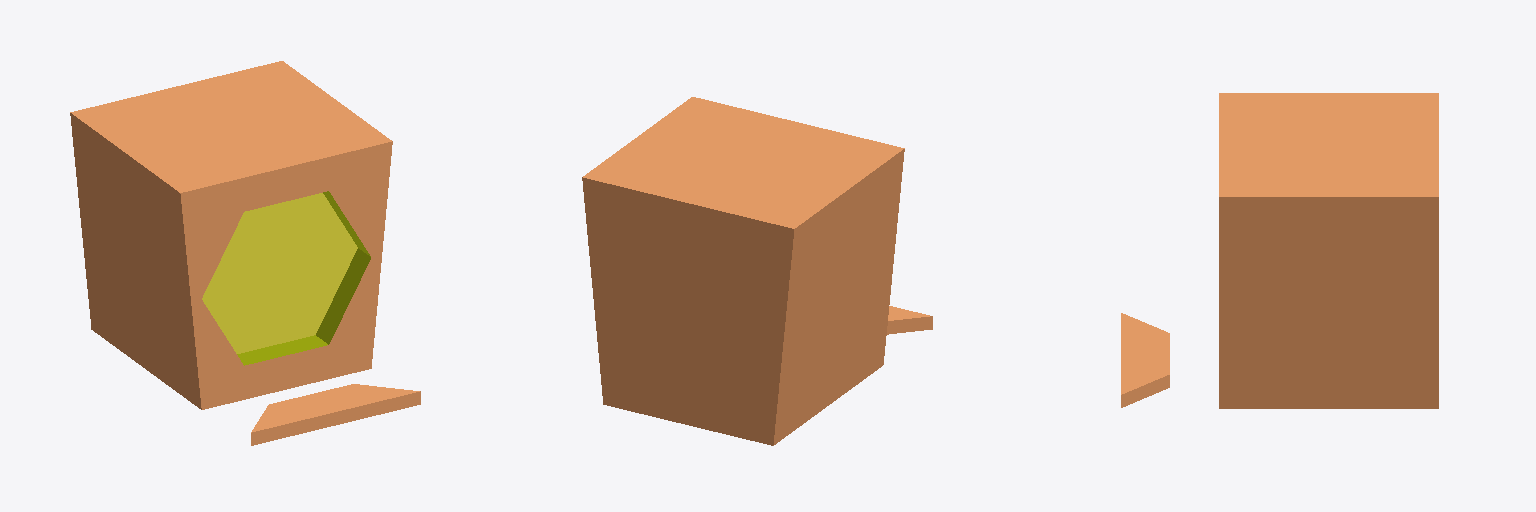
File: computer2.obj
3 renders of one model, left to right at view 1: azimuth 30°, elevation 25°; view 2: azimuth 150°, elevation 25°; view 3: azimuth 270°, elevation 25°, orthographic.
Visible parts, largest first — view 1: Mesh1 Model, Mesh2 Model; view 2: Mesh1 Model, Mesh2 Model; view 3: Mesh1 Model, Mesh2 Model.
Part boxes in pixels (x1,y1,x2,y2): Mesh1 Model: (70,61,392,409); Mesh2 Model: (251,384,420,445); Mesh1 Model: (582,97,904,445); Mesh2 Model: (887,306,932,334); Mesh1 Model: (1219,93,1438,408); Mesh2 Model: (1121,313,1169,407).
Size of the model in its own units: 0.5 by 0.5 by 0.65.